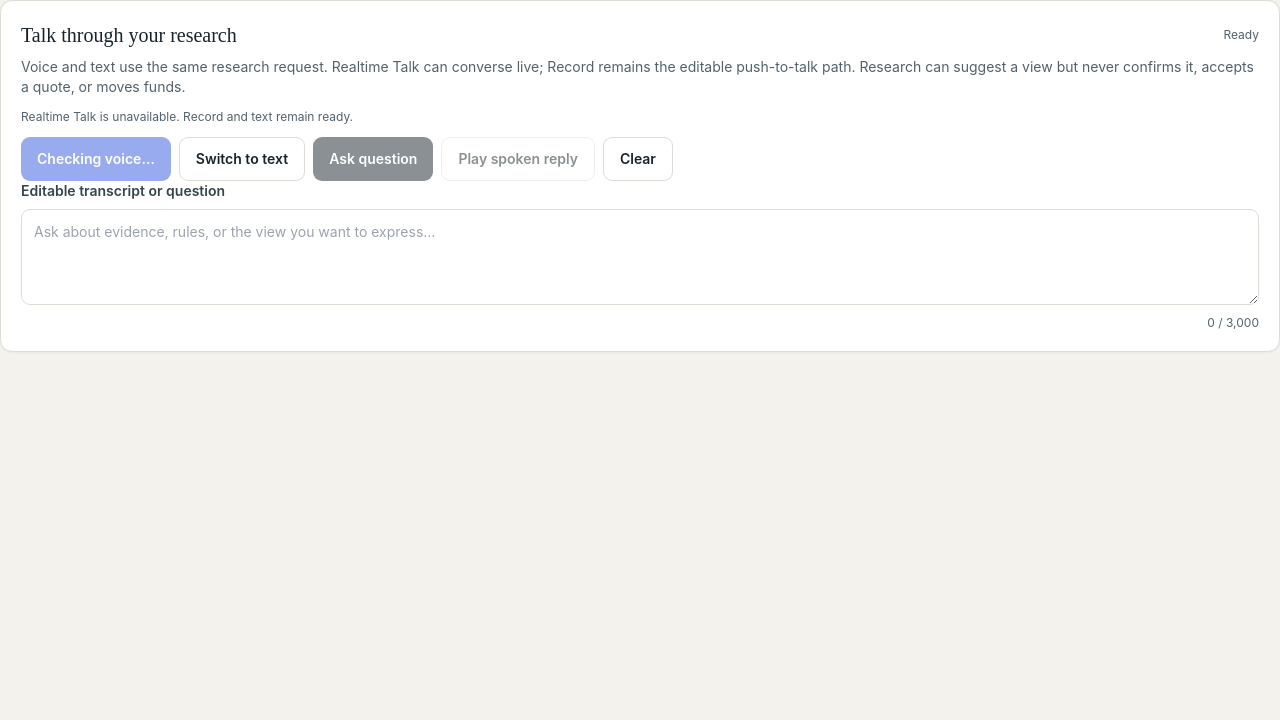
it: VoicePanel interaction flows › keeps the written answer when ElevenLabs speech fails and retries playback
Click the button "Switch to text".
click(242, 159)  # box [179,137,305,181]
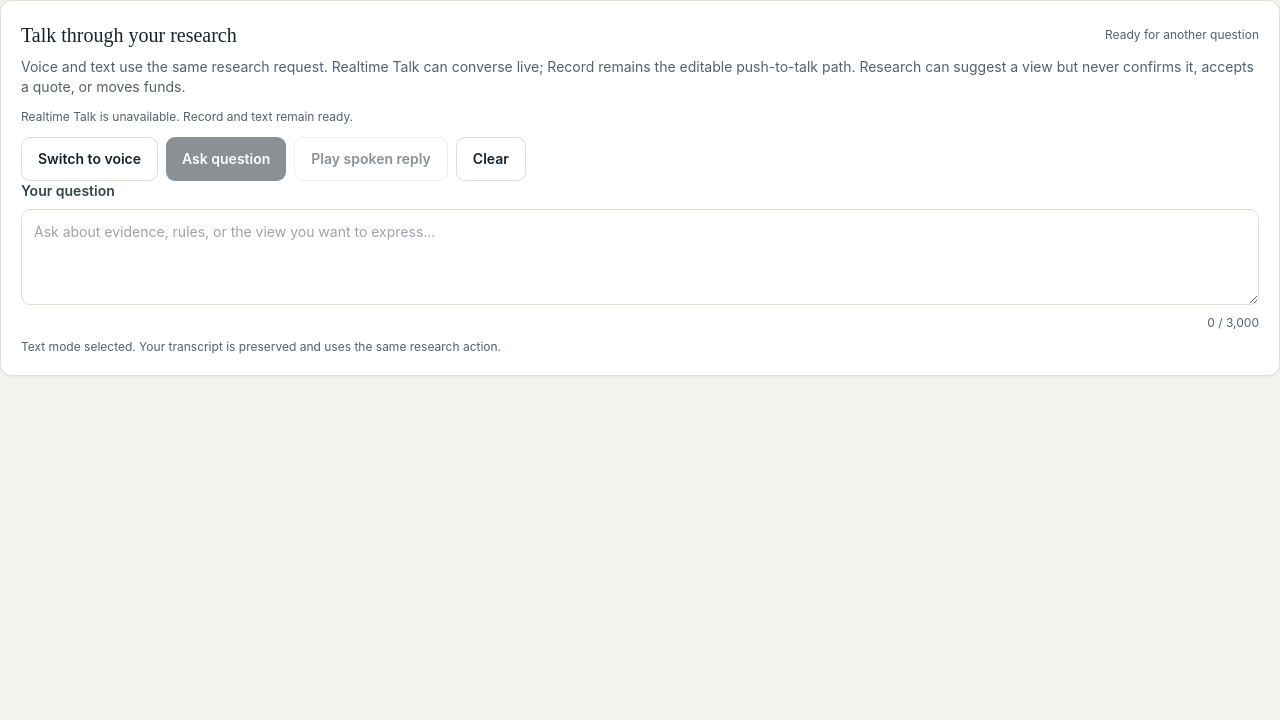
Type "What is the resolution deadline?" into the text box labelled "Your question".
click(640, 257); type("What is the resolution deadline?")  # box [21,209,1259,305]
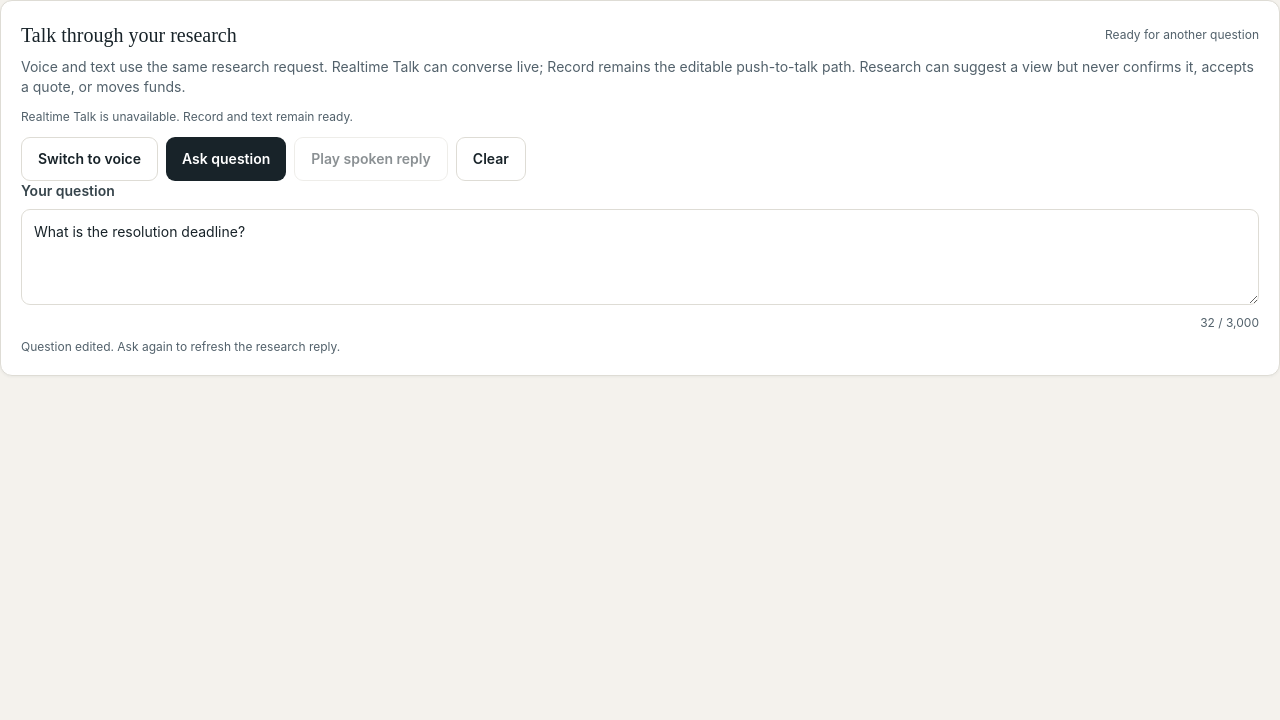
Click the button "Ask question".
click(226, 159)  # box [166,137,286,181]
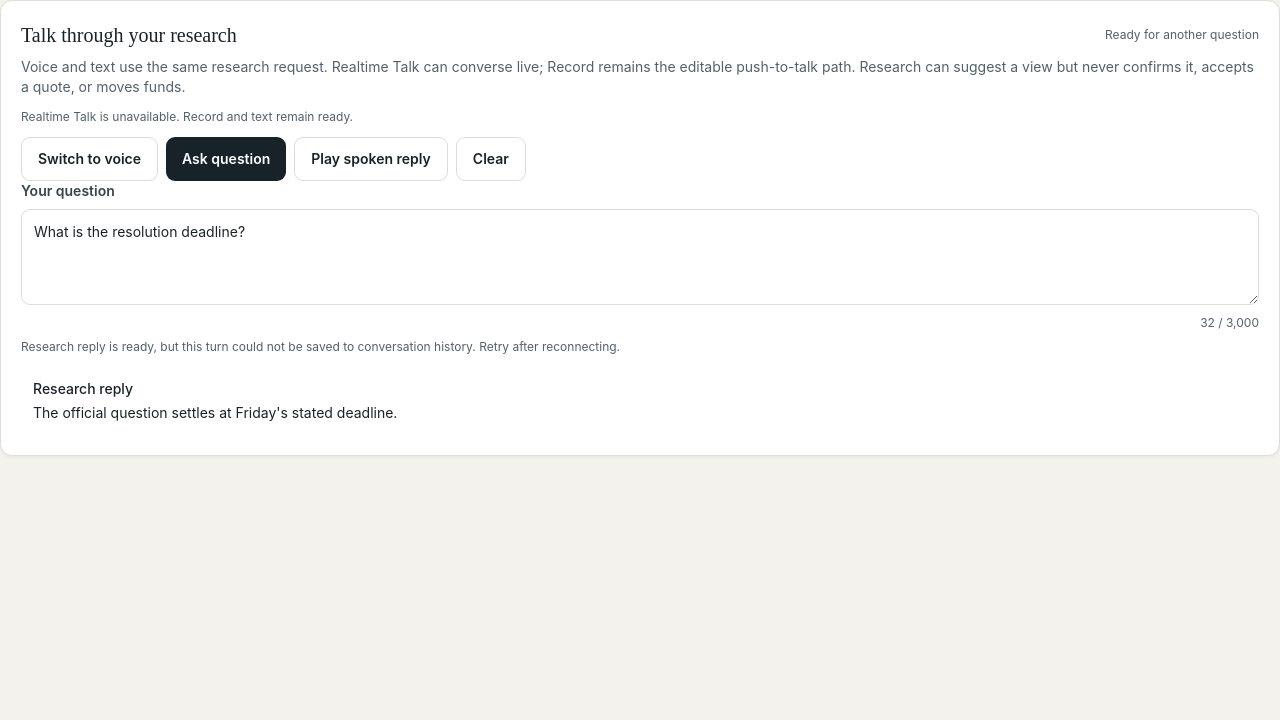
Expected: the text "The official question settles at Friday's stated deadline." is shown, [33,404,397,421]
Click the button "Play spoken reply".
click(371, 159)  # box [294,137,448,181]
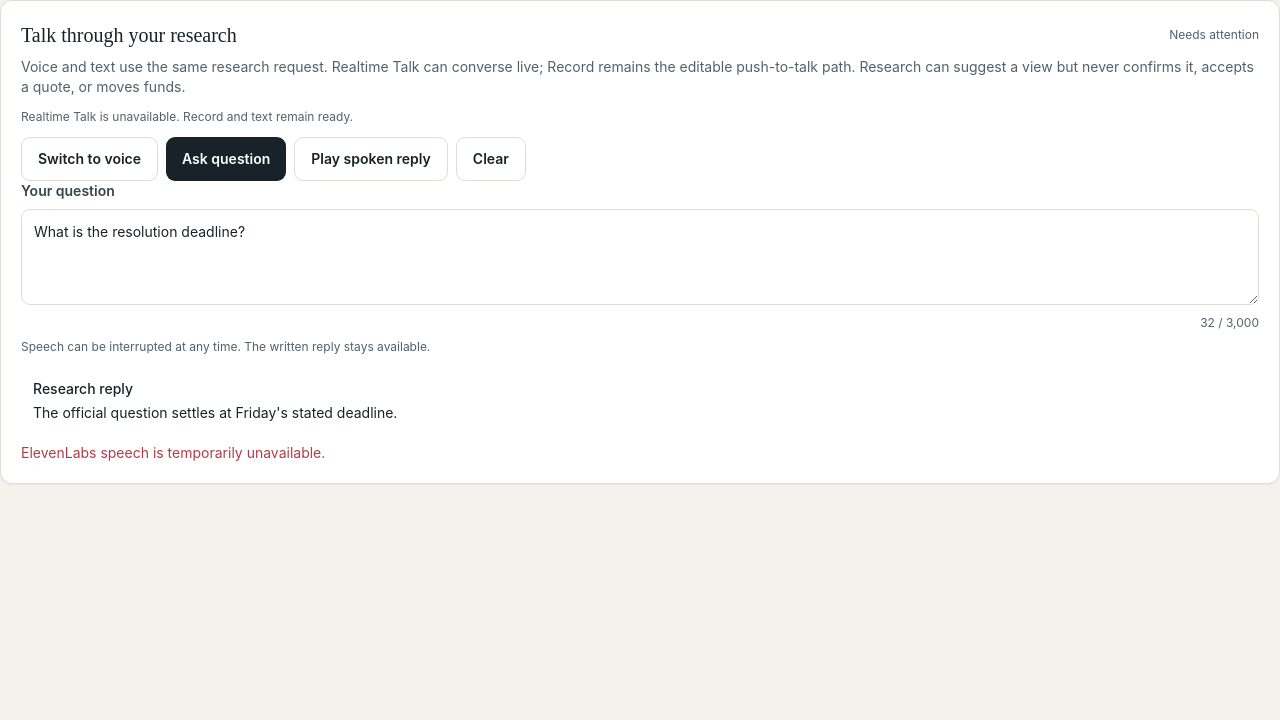
Expected: the text "The official question settles at Friday's stated deadline." is shown, [33,404,397,421]
Expected: the message "ElevenLabs speech is temporarily unavailable." is shown, [21,444,325,461]
Click the button "Play spoken reply".
click(371, 159)  # box [294,137,448,181]
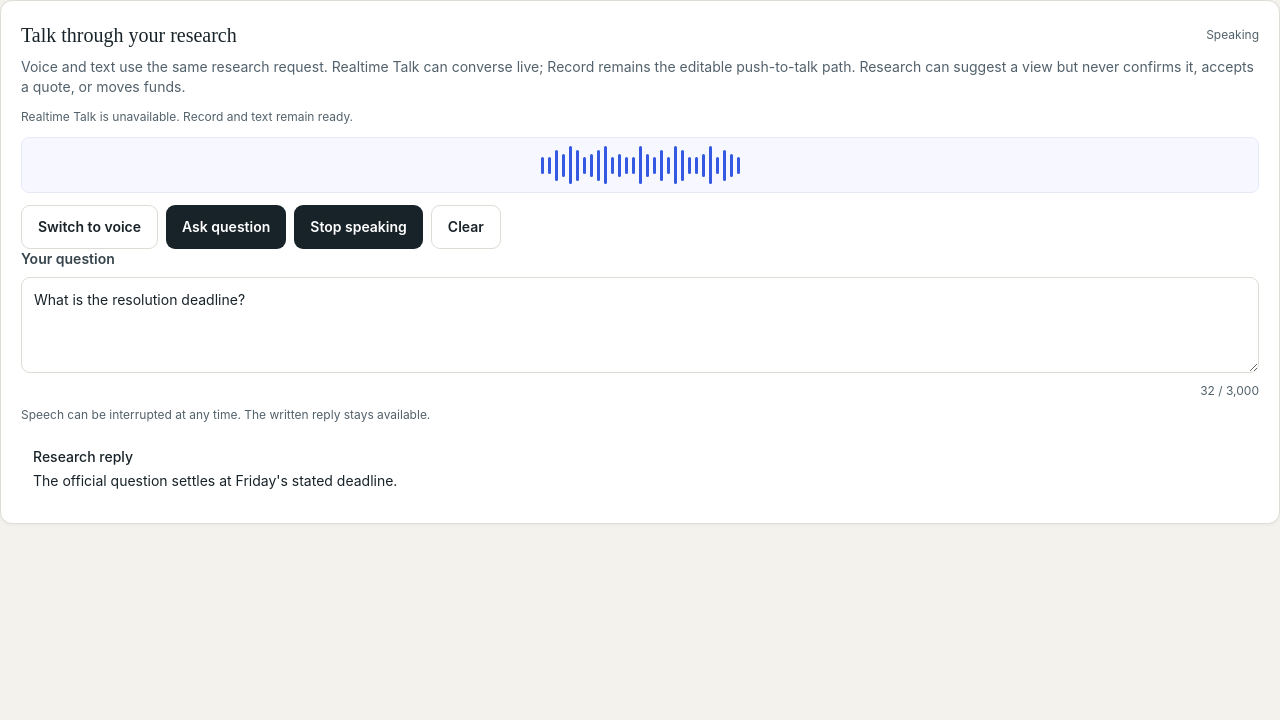
Expected: the button "Stop speaking" is shown, [294,205,423,249]
